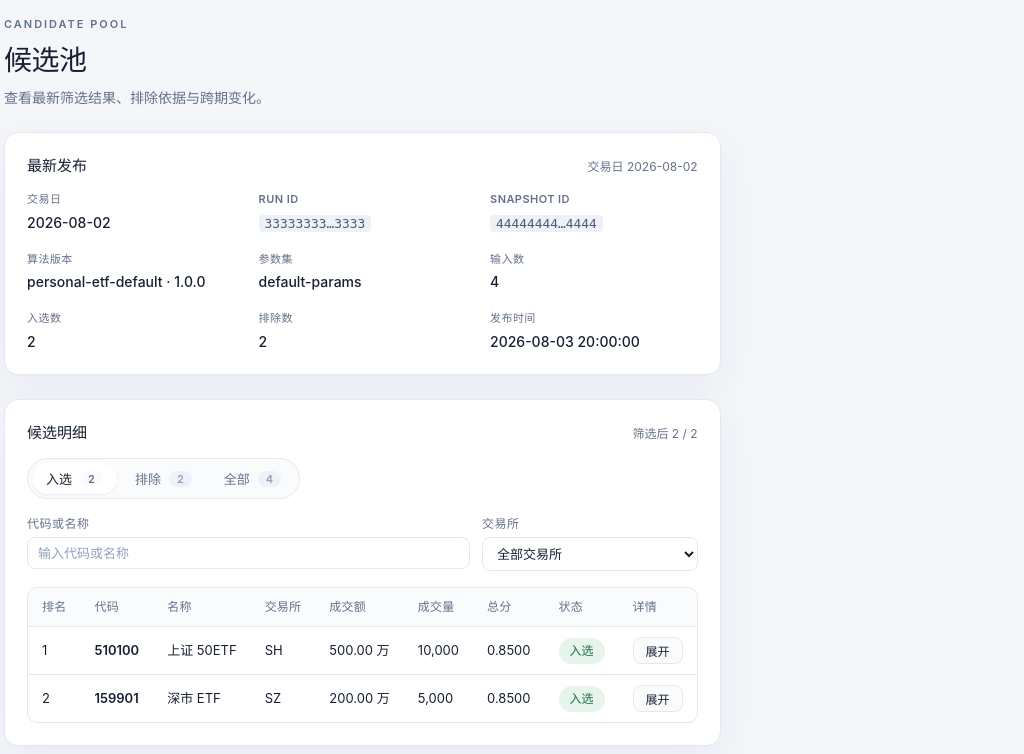
it: CandidatePoolPage › tabs › switches to the excluded tab and shows excluded items
This screenshot has width=1024, height=754.
Click the tab "排除 2".
click(163, 479)  # box [121, 463, 206, 494]
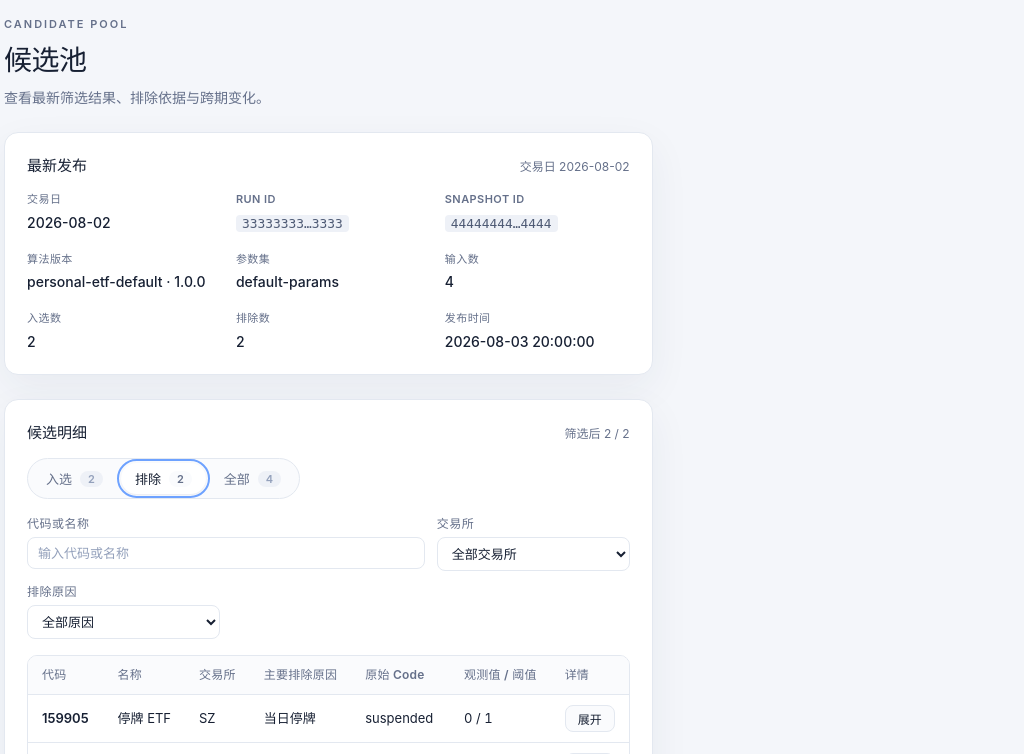
Now the row "159905 停牌 ETF SZ 当日停牌 suspended 0 / 1 展开" is shown, box [28, 695, 629, 743]
